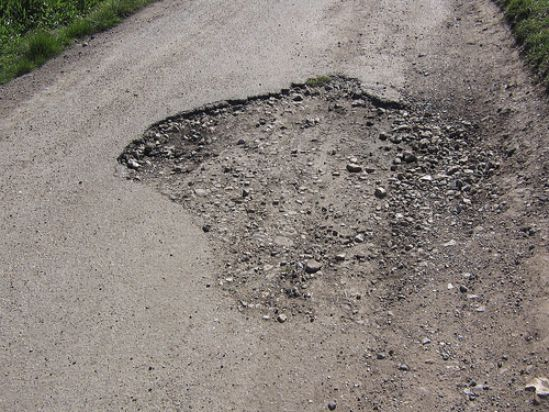pothole: (110, 70, 493, 326)
